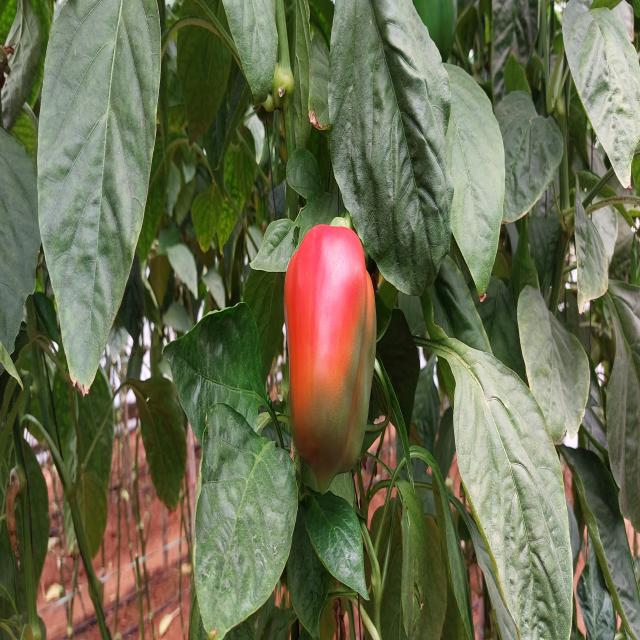BrownishRed--Can-be-Harvested: (281, 226, 377, 484)
